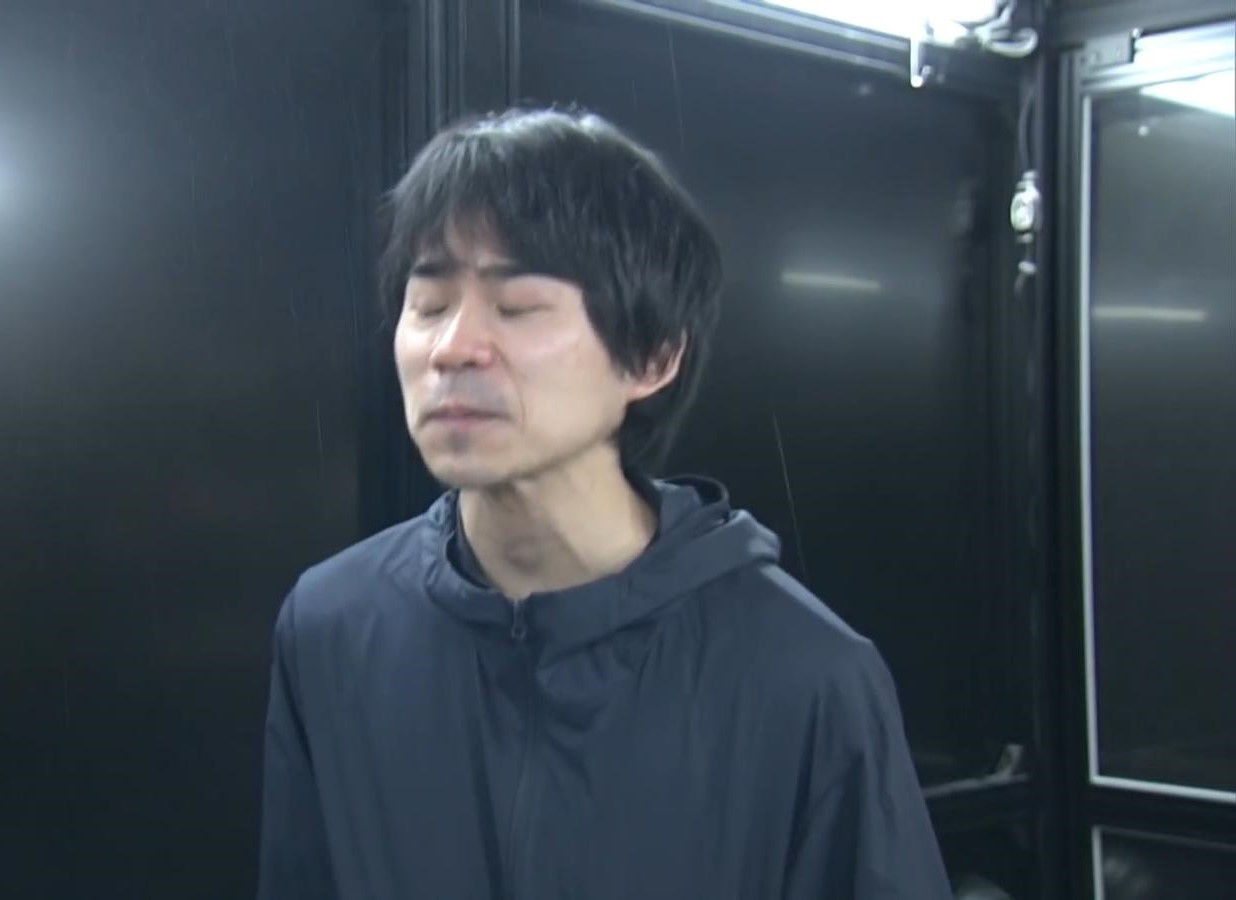without_mask: (413, 252, 582, 459)
